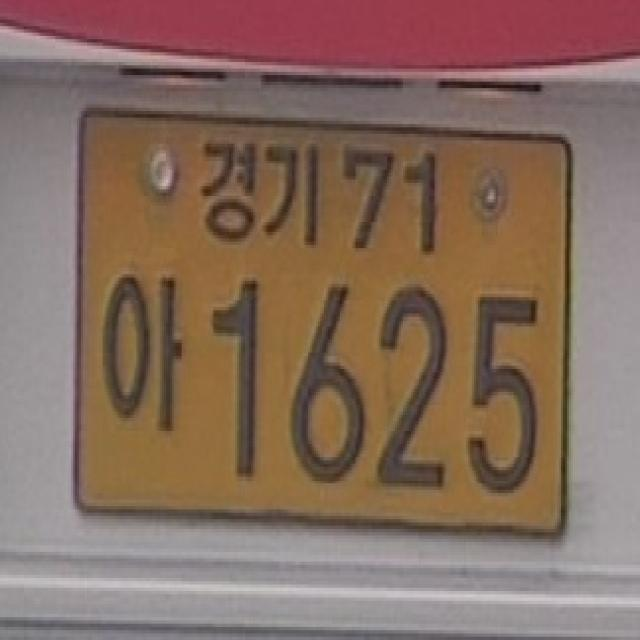plat: (73, 107, 572, 534)
